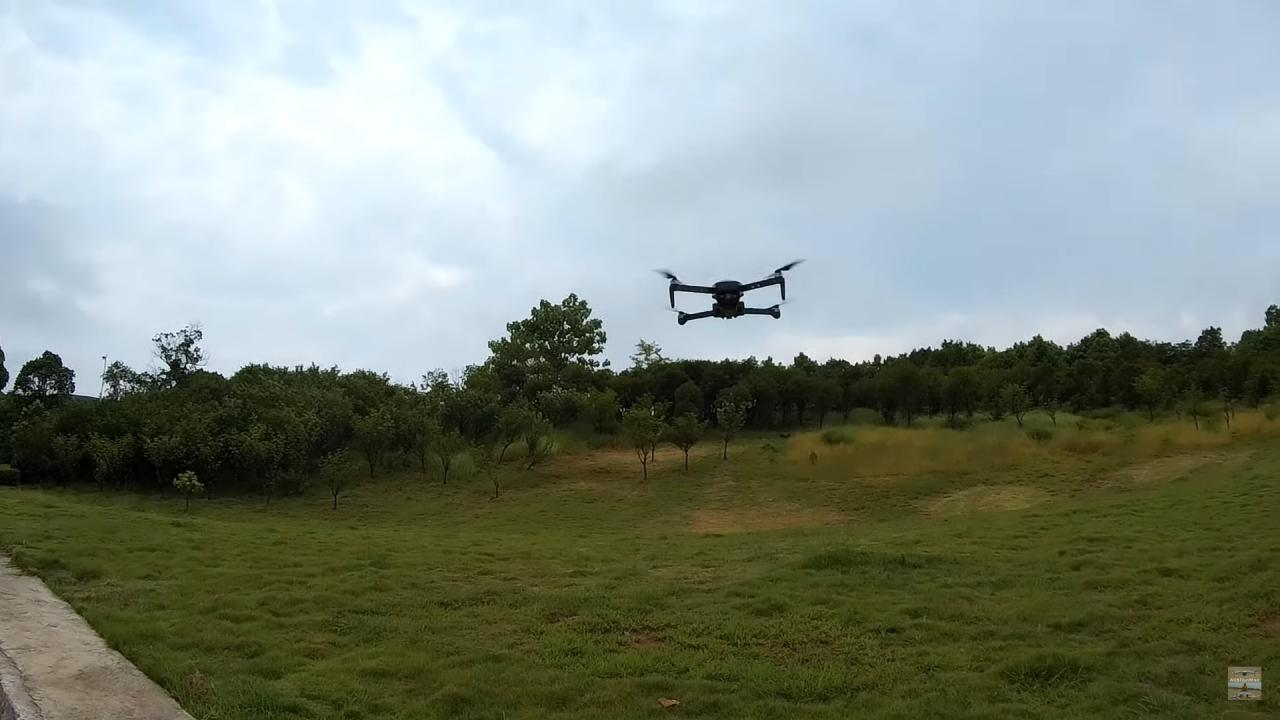Drone: (641, 248, 815, 332)
